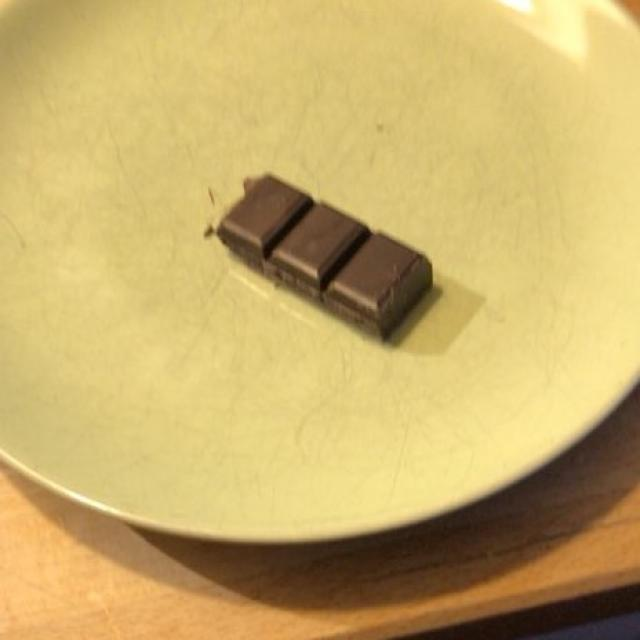chocolate: (216, 173, 435, 343)
